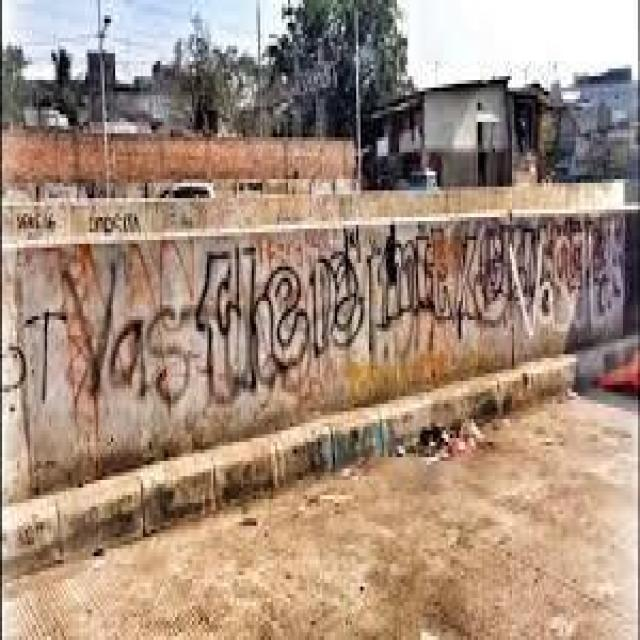nonspitting: (196, 214, 623, 404), (64, 259, 188, 408), (2, 305, 65, 403)
